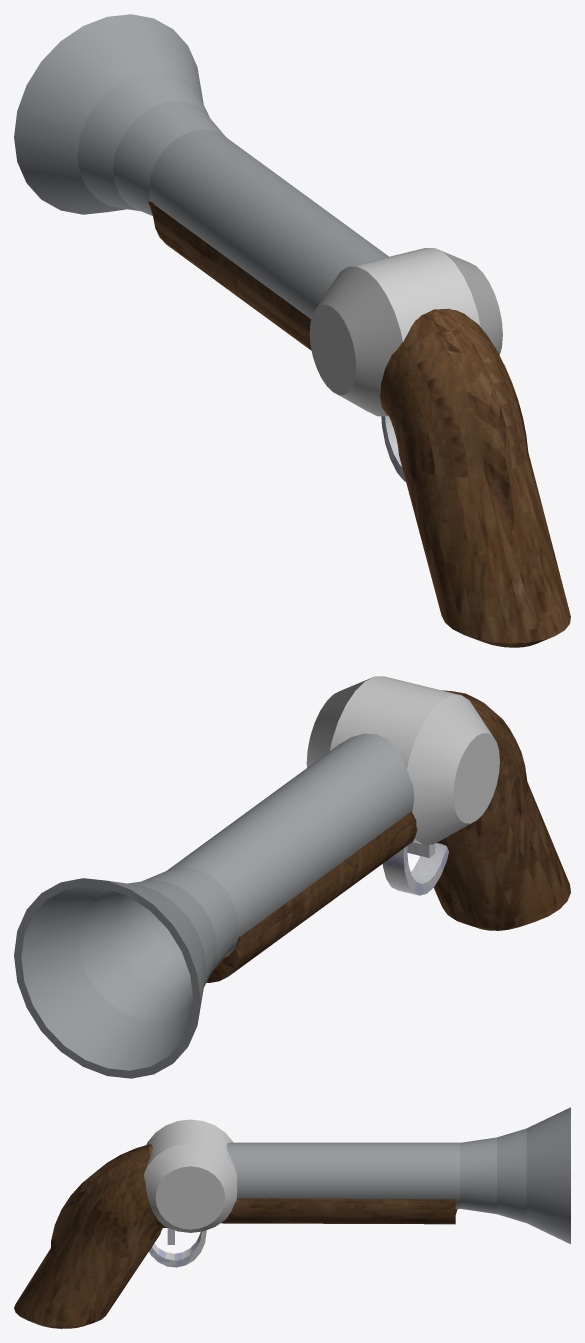
The model's file is Pistol.fbx.
3 renders of one model, top to bottom at view 1: azimuth 30°, elevation 25°; view 2: azimuth 150°, elevation 25°; view 3: azimuth 270°, elevation 25°, orthographic. The views are drawn at different scales.
Parts seen in each view (by area): view 1: Group1, Group2, Group3; view 2: Group1, Group2, Group3, Group4; view 3: Group1, Group2, Group3, Group4.
Boxes of the visible parts, bbox=[...] form: Group1: bbox=[14, 14, 388, 318]; Group2: bbox=[148, 201, 570, 647]; Group3: bbox=[309, 248, 502, 416]; Group1: bbox=[14, 733, 414, 1078]; Group2: bbox=[206, 690, 570, 982]; Group3: bbox=[306, 676, 499, 844]; Group4: bbox=[382, 842, 448, 895]; Group1: bbox=[226, 1107, 570, 1244]; Group2: bbox=[14, 1144, 457, 1328]; Group3: bbox=[144, 1119, 237, 1232]; Group4: bbox=[149, 1228, 206, 1267].
Bounding box in the file's own units: 27.23 × 45.08 × 110.
